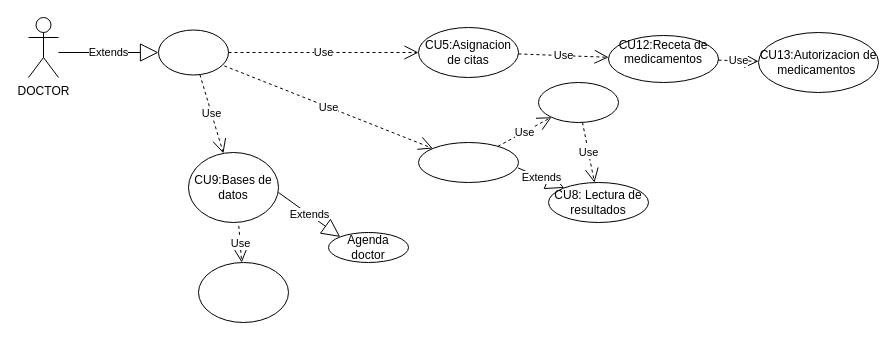
This 896x340 diagram has some shape labels left out. Here are the shapes that lost their labels. From the top down, the centre of each, then its label:
At point (193, 52): "CU1:Inicio Sesion".
At point (578, 102): "CU17: Subir resultados".
At point (468, 162): "CU6: Asignacion deExamen".
At point (243, 292): "CU10: Historial medico paciente".
